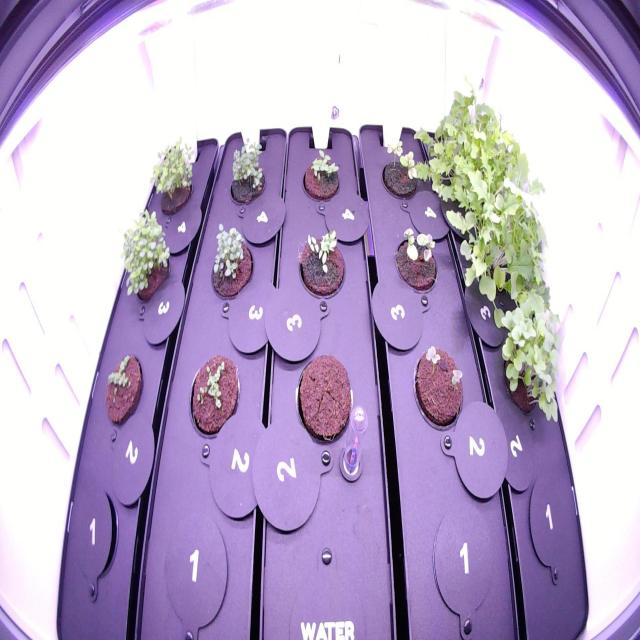empty_pod: (158, 504, 234, 631), (425, 497, 501, 618), (522, 464, 577, 580), (70, 482, 122, 587)
germination: (184, 344, 244, 445), (408, 337, 469, 436), (294, 220, 352, 308), (97, 344, 151, 434), (205, 220, 256, 308), (388, 220, 444, 298), (224, 132, 269, 213), (377, 135, 425, 207), (298, 140, 346, 207)
pod: (289, 346, 357, 454)
